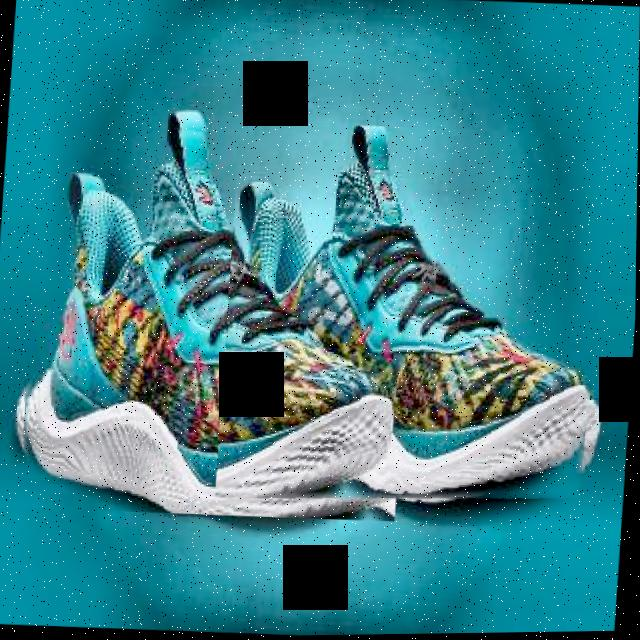shoe: (11, 111, 422, 528), (216, 118, 618, 519)
